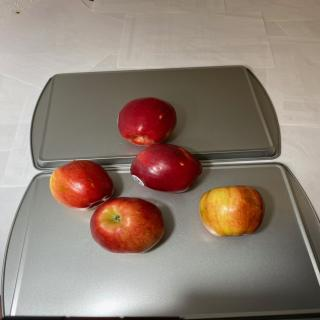Apple: (90, 197, 164, 254), (130, 143, 203, 193), (199, 185, 265, 237), (49, 159, 114, 211), (117, 97, 177, 146)
